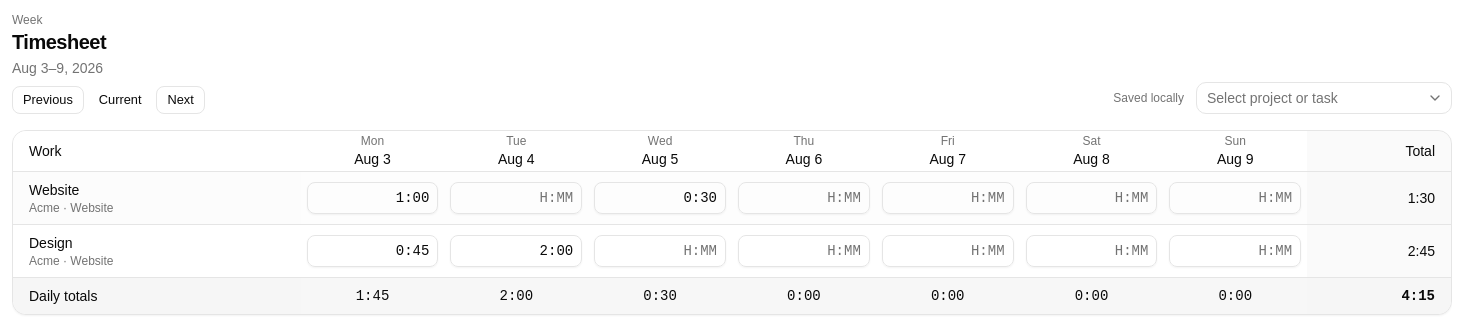
Test case: keeps invalid drafts unsaved and Escape restores the saved value
Replace the text in the field named "Acme · Website · Mon Aug 3" with "1:60" at (372, 198), box [307,182,438,214]
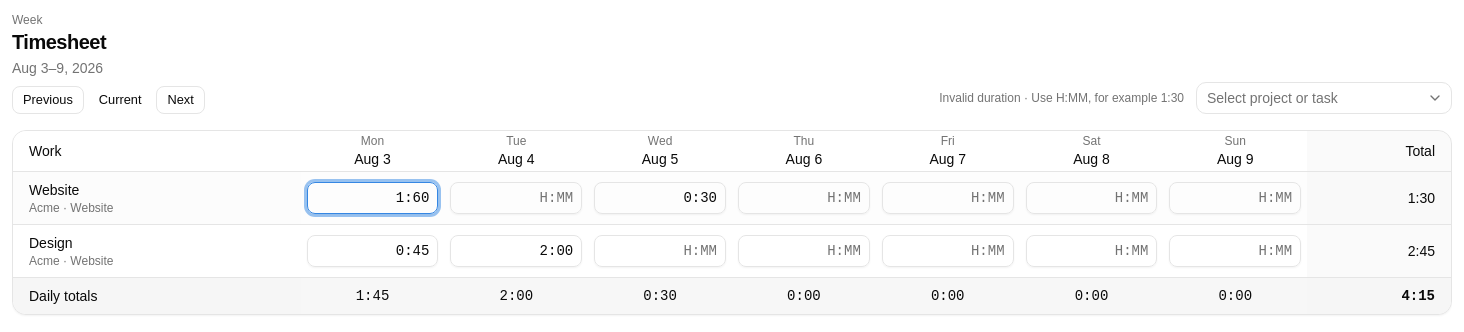
Press Tab
Check: the message reads "Invalid duration · Use H:MM, for example 1:30", box [939,91,1184,105]
Press Escape
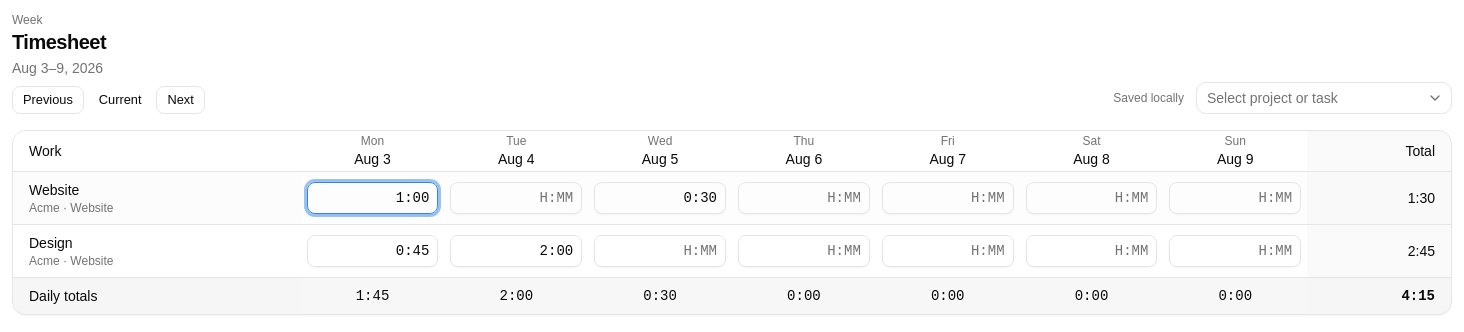
Check: the field named "Acme · Website · Mon Aug 3" holds "1:00", box [307,182,438,214]
Check: the message reads "Saved locally", box [1113,91,1184,105]
